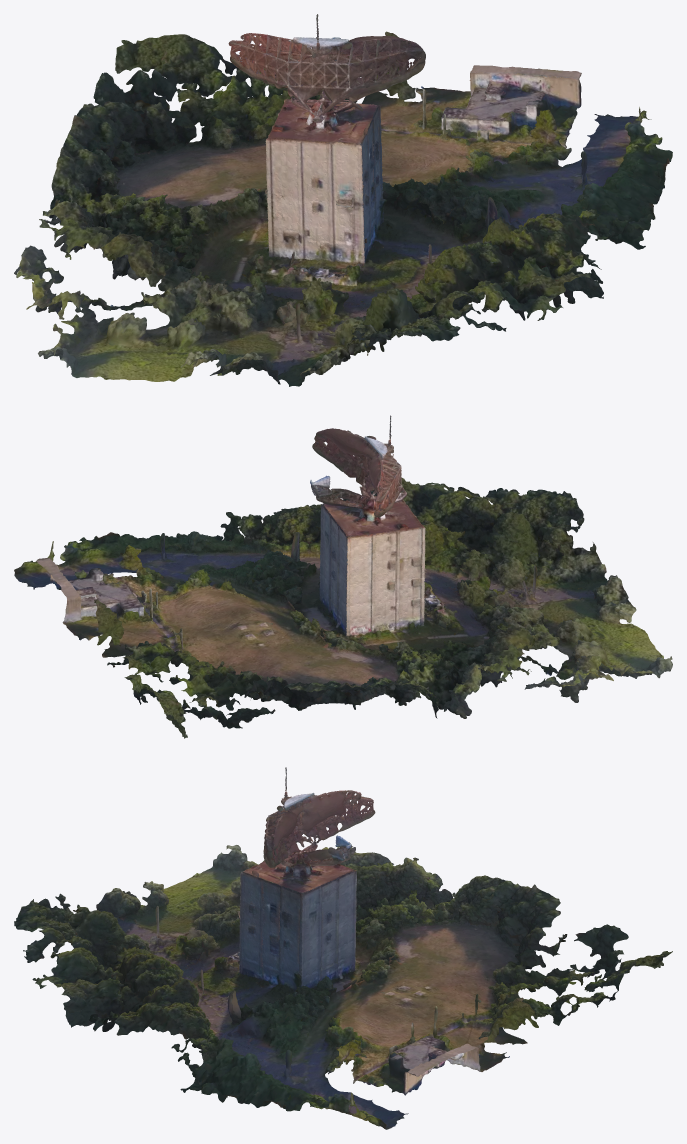
The model's file is aerial_scan_radar_station_camp_hero_montauk_ny.glb.
3 views of the same model, one above another, from view 1: azimuth 30°, elevation 25°; view 2: azimuth 150°, elevation 25°; view 3: azimuth 270°, elevation 25° (orthographic). The views are drawn at different scales.
Parts seen in each view (by area): view 1: Object_2; view 2: Object_2; view 3: Object_2.
Part boxes in pixels (x1,y1,x2,y2): Object_2: [14, 14, 672, 386]; Object_2: [14, 415, 672, 738]; Object_2: [14, 767, 672, 1129].
Bounding box in the file's own units: 159 × 56.96 × 154.
Materials: 1 (1 with a texture image).
